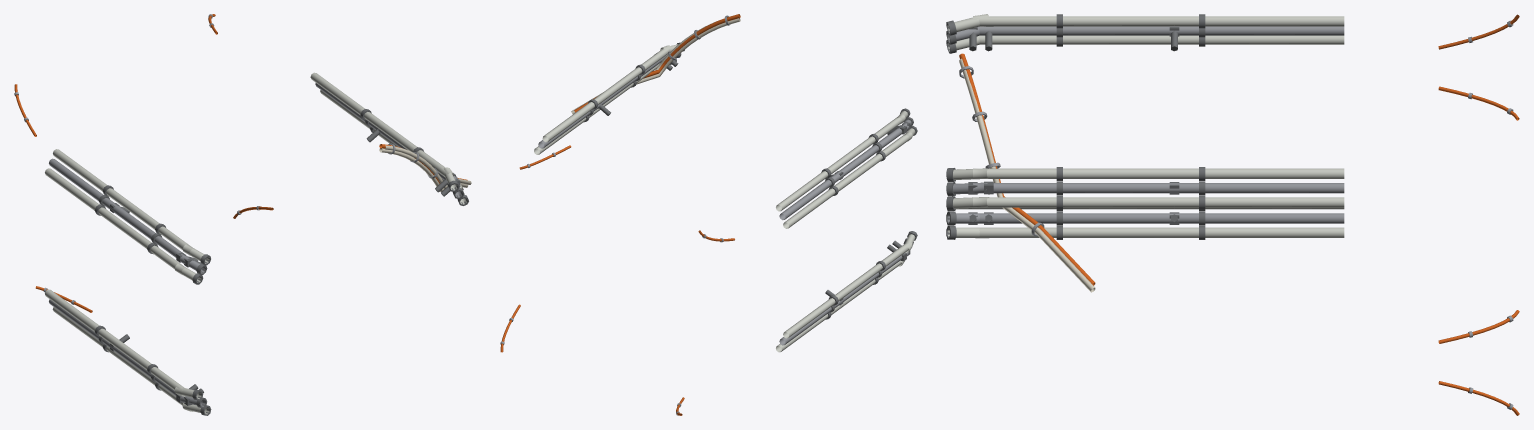
File: u33_pipes.obj
The picture shows the model from 3 angles, left to right: view 1: azimuth 30°, elevation 25°; view 2: azimuth 150°, elevation 25°; view 3: azimuth 270°, elevation 25°; orthographic projection. The views are drawn at different scales.
Visible parts, largest first — view 1: u33_pipes; view 2: u33_pipes; view 3: u33_pipes.
Part boxes in pixels (<box>): u33_pipes: <box>14,14,471,415</box>; u33_pipes: <box>500,14,917,415</box>; u33_pipes: <box>946,14,1519,415</box>.
Bounding box in the file's own units: 3.33 × 2.56 × 3.63.
